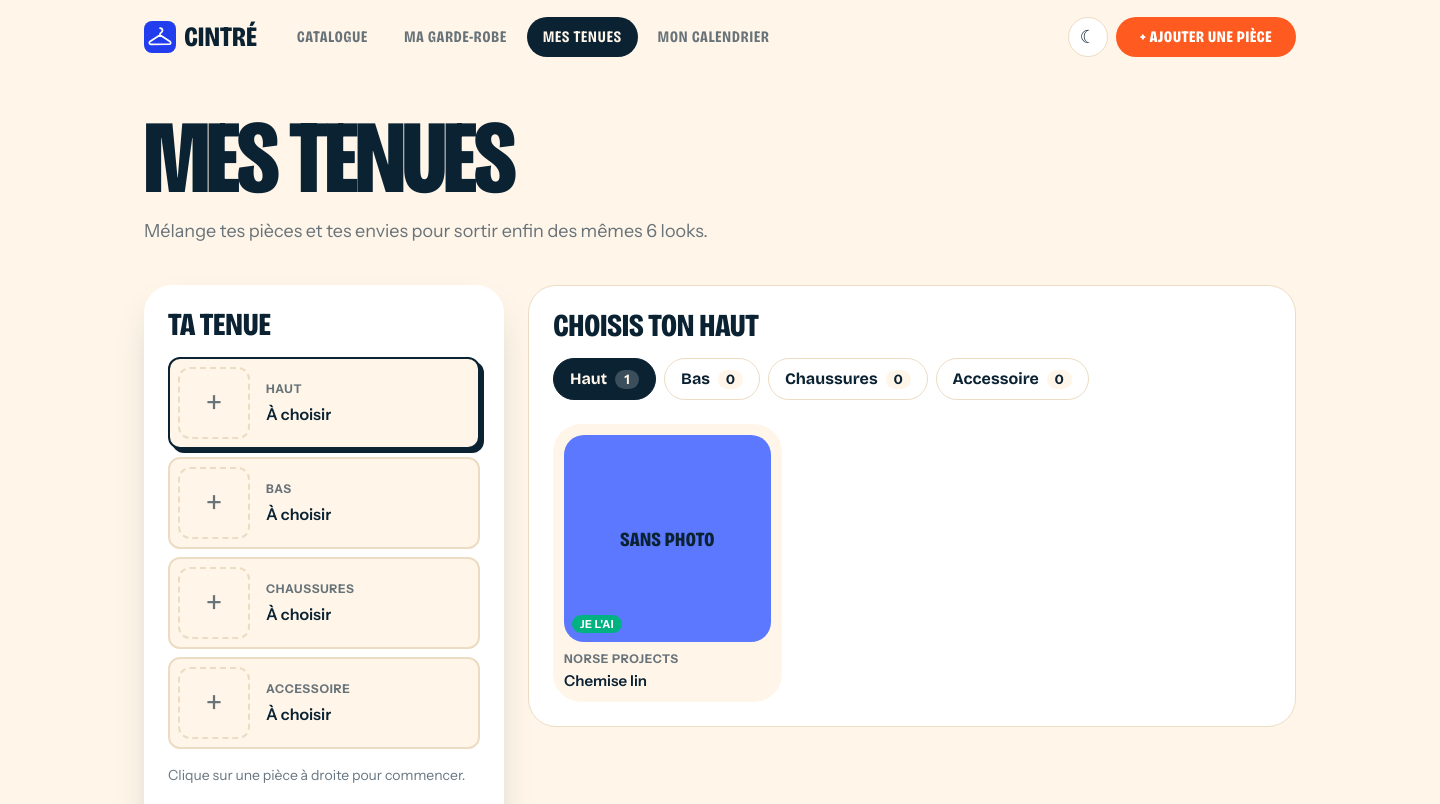
Scenario: Tenues : démarrage › propose le catalogue quand un emplacement est vide
Step 1. Click the button "Bas 0" → (712,379), box top-left (664, 358), bottom-right (760, 400)
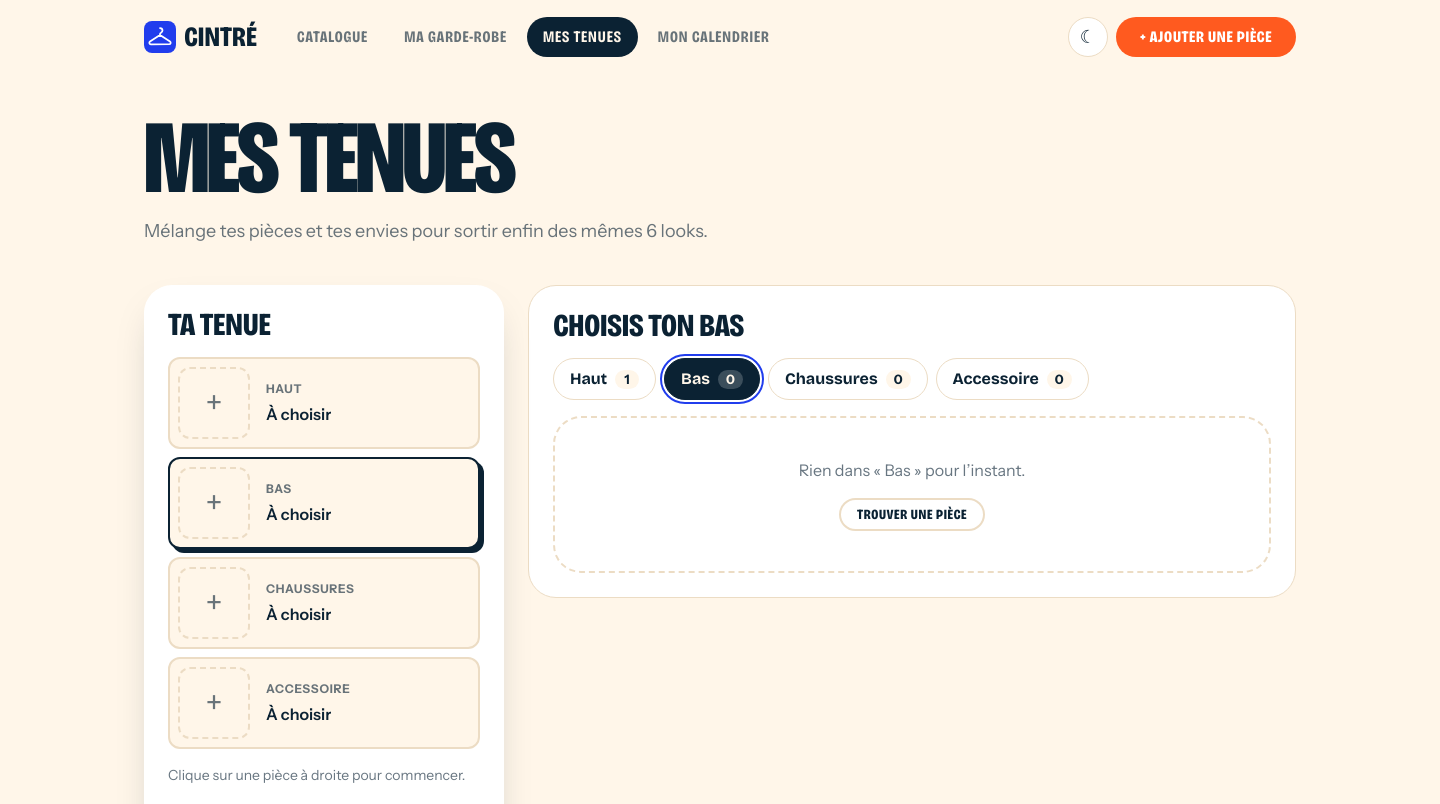
Expected: the link "Trouver une pièce" is shown, top-left (839, 498), bottom-right (985, 531)
